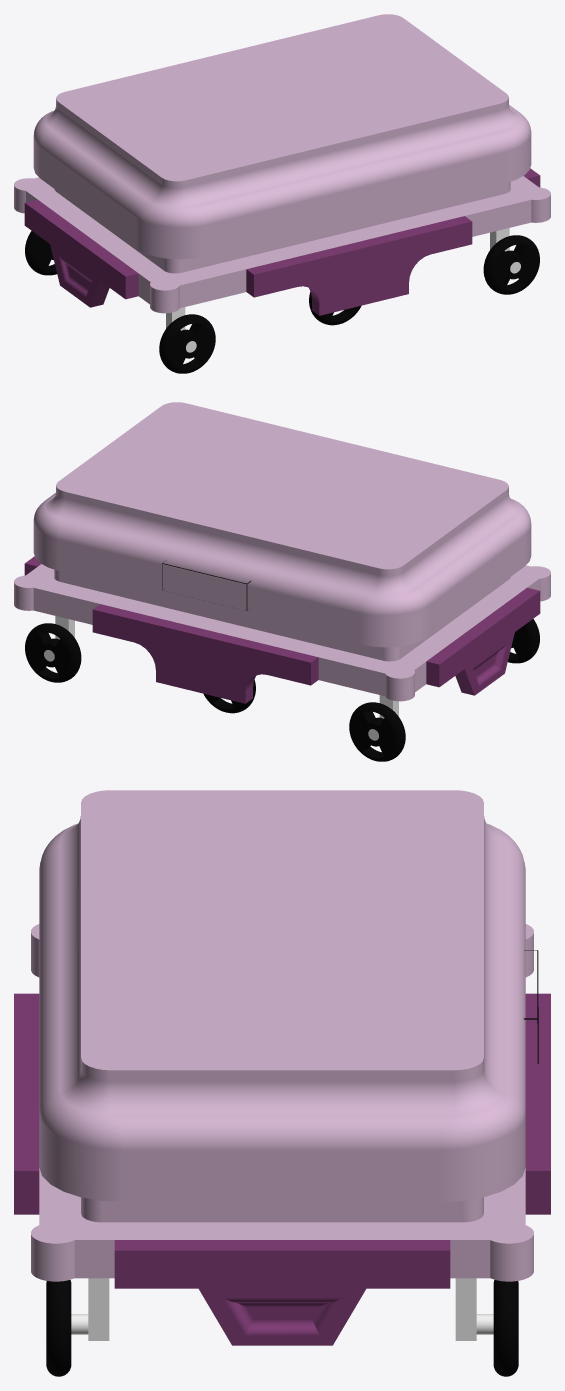
The model's file is bcr_chassis.dae.
3 renders of one model, top to bottom at view 1: azimuth 30°, elevation 25°; view 2: azimuth 150°, elevation 25°; view 3: azimuth 270°, elevation 25°, orthographic. The views are drawn at different scales.
Parts seen in each view (by area): view 1: AMR; view 2: AMR; view 3: AMR.
Boxes of the visible parts, <box> form: AMR: <box>14,14,550,373</box>; AMR: <box>14,402,550,761</box>; AMR: <box>14,790,550,1376</box>.
Bounding box in the file's own units: 9.5 × 6.4 × 4.08.
